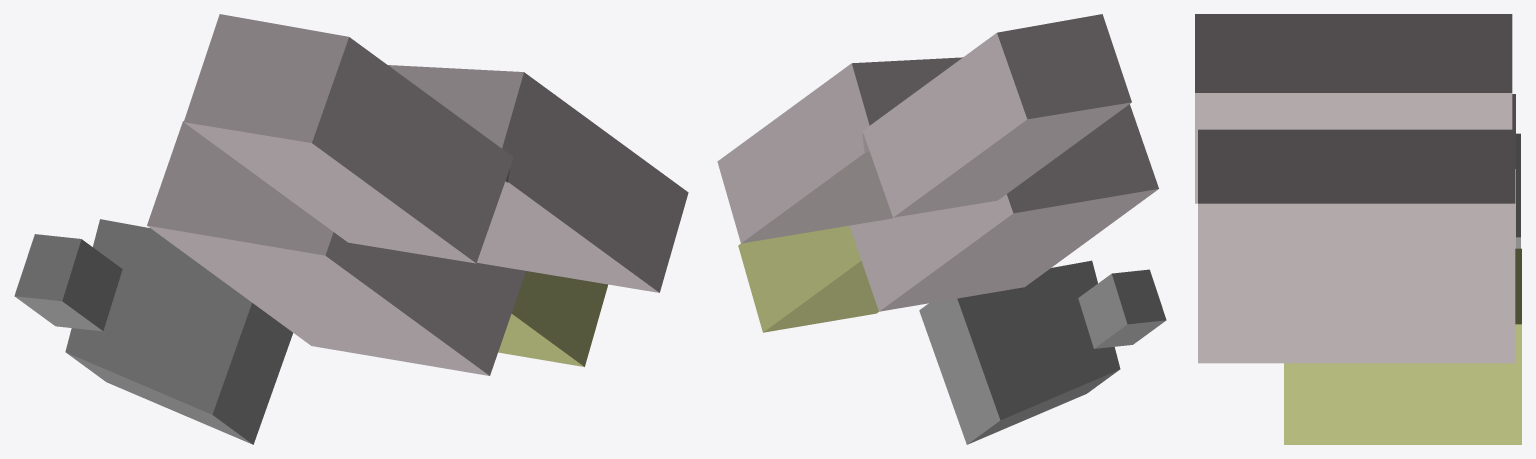
The picture shows the model from 3 angles, left to right: view 1: azimuth 30°, elevation 25°; view 2: azimuth 150°, elevation 25°; view 3: azimuth 270°, elevation 25°; orthographic projection. The views are drawn at different scales.
Visible parts, largest first — view 1: 0_1_2_0_1_1_0_0_0_3; view 2: 0_1_2_0_1_1_0_0_0_3; view 3: 0_1_2_0_1_1_0_0_0_3.
Part boxes in pixels (x1,y1,x2,y2): 0_1_2_0_1_1_0_0_0_3: [14, 14, 688, 444]; 0_1_2_0_1_1_0_0_0_3: [717, 14, 1166, 444]; 0_1_2_0_1_1_0_0_0_3: [1195, 14, 1521, 444].
Bounding box in the file's own units: 21.45 × 16.23 × 12.36.
